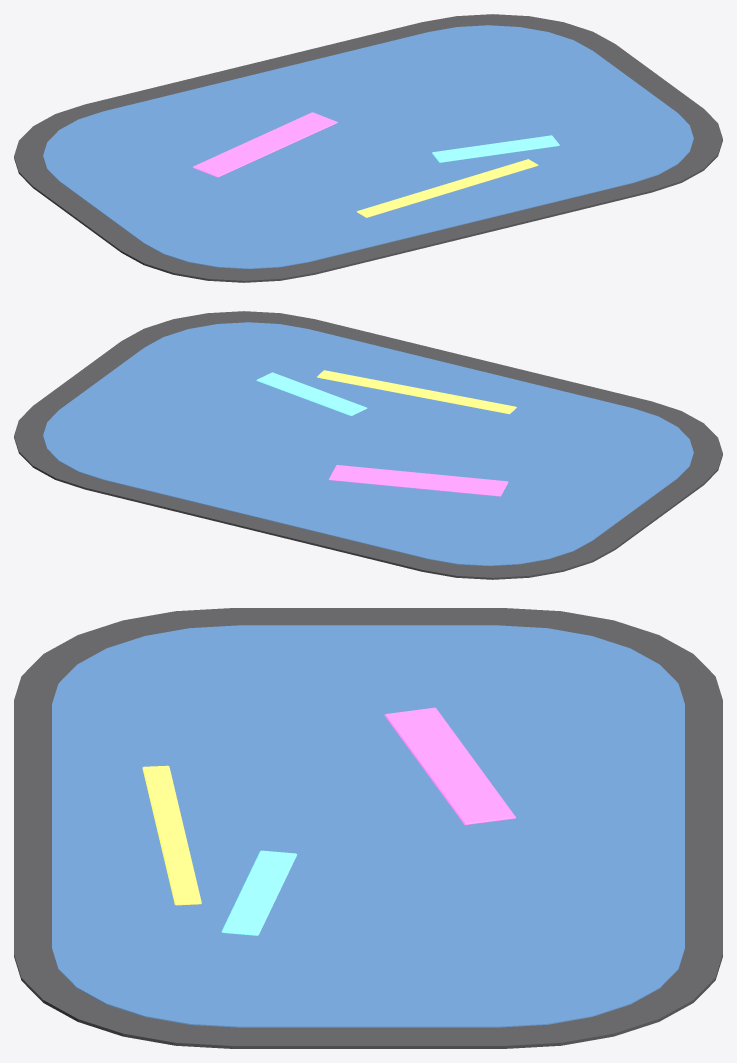
The model's file is cyberpunk-apartment-and-neon-block-puddle-plate-a0e6077e.glb.
The picture shows the model from 3 angles, top to bottom: view 1: azimuth 30°, elevation 25°; view 2: azimuth 150°, elevation 25°; view 3: azimuth 270°, elevation 25°; orthographic projection. The views are drawn at different scales.
Visible parts, largest first — view 1: puddle-plate; view 2: puddle-plate; view 3: puddle-plate.
Part boxes in pixels (left/top/right/bottom): puddle-plate: left=14, top=14, right=722, bottom=282; puddle-plate: left=14, top=311, right=722, bottom=579; puddle-plate: left=14, top=608, right=722, bottom=1048.
Size of the model in its own units: 1.9 by 0.02 by 1.3.
